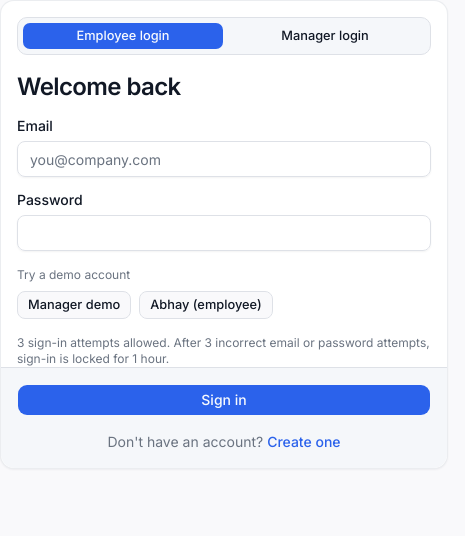
it: <LoginForm /> › shows the one-hour lock warning and disables sign-in after the third failure
The width and height of the screenshot is (465, 536).
Type "person@example.com" into the field labelled "Email" at (224, 159), box [17,141,431,177]
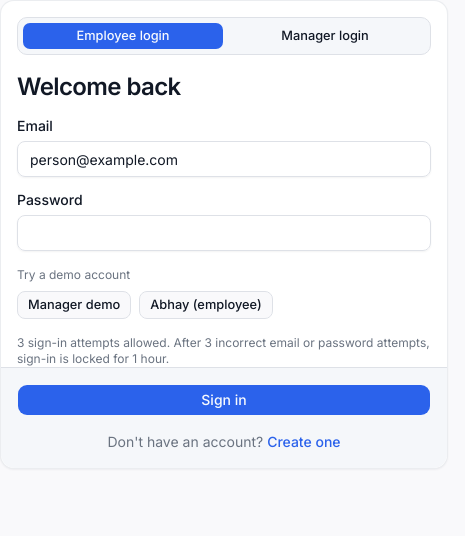
Type "wrong-password" into the password field labelled "Password" at (224, 233), box [17,215,431,251]
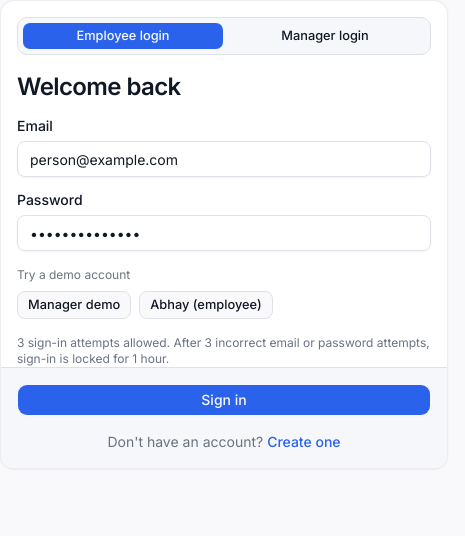
Click the button "Sign in" at (224, 400), box [17,384,431,416]
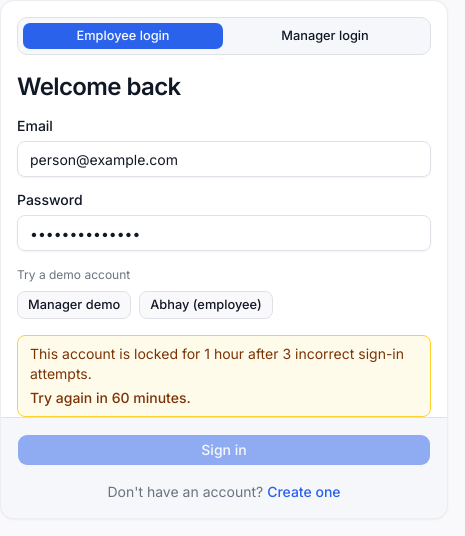
expect the message shows "locked for 1 hour": met, box [30,345,404,382]
expect the message shows "Try again in 60 minutes": met, box [17,335,431,417]
expect the button "Sign in" is disabled: met, box [17,434,431,466]
